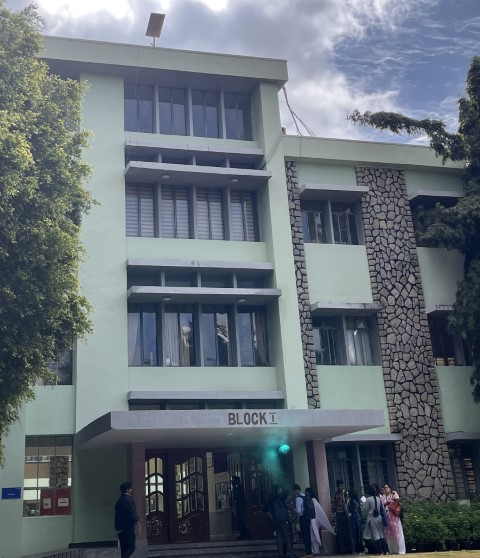Block 1: (76, 29, 463, 529)
